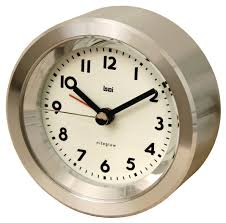alarm_clock: (3, 2, 218, 217), (11, 2, 218, 217), (11, 12, 218, 217)
